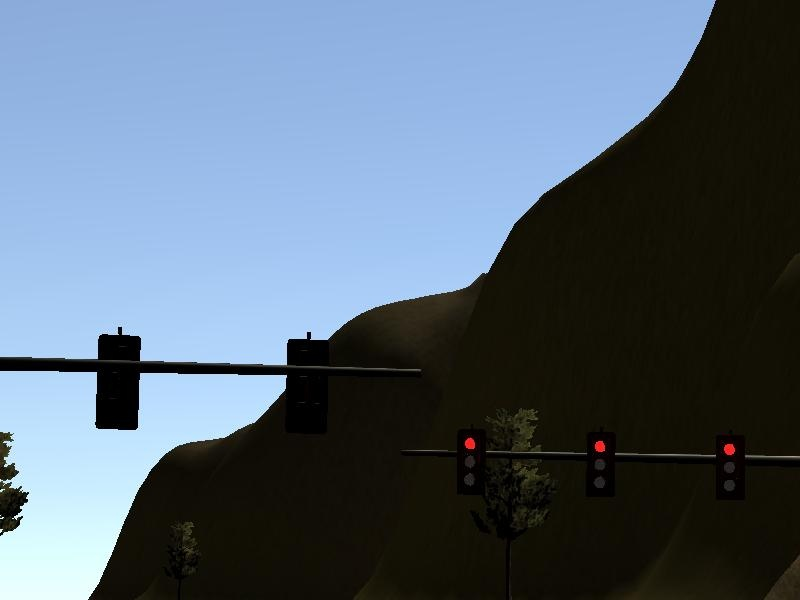RED: (456, 429, 484, 495), (586, 429, 614, 495), (715, 434, 743, 500)
